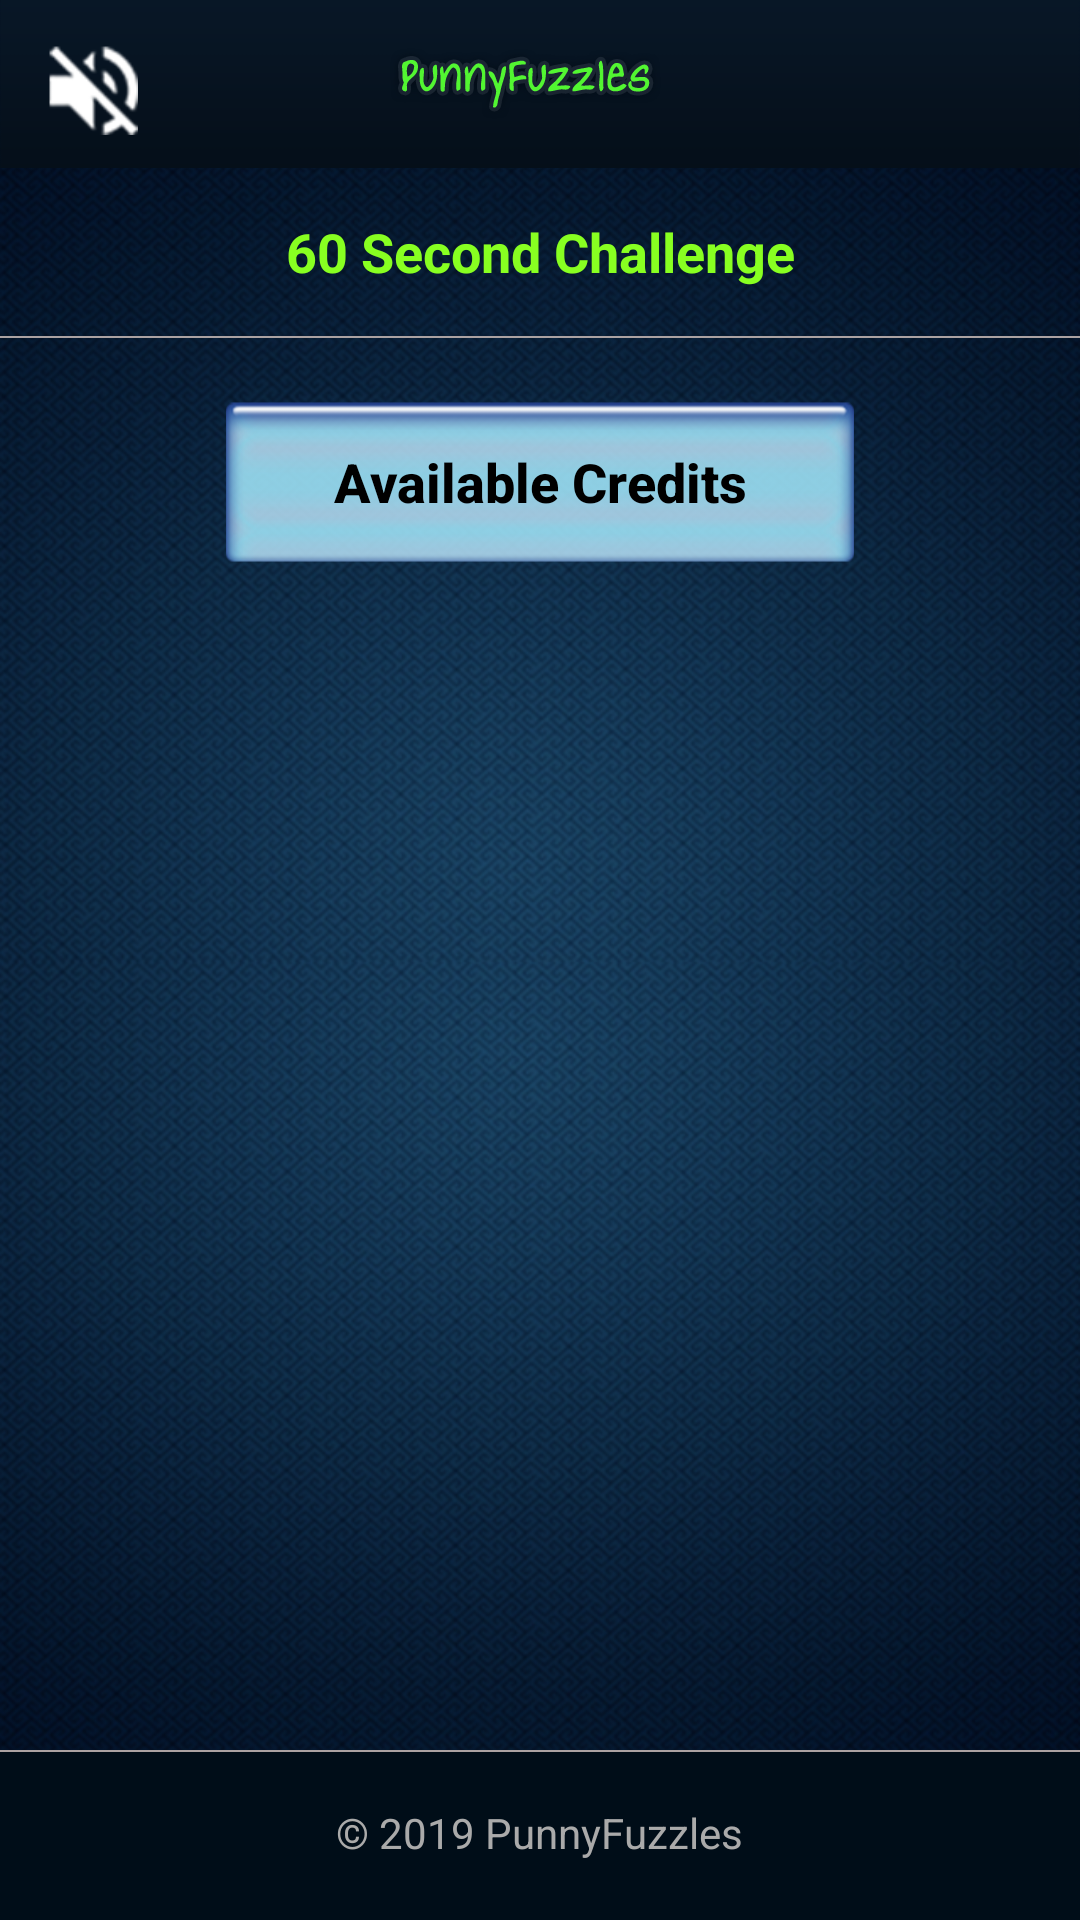

Where to tap for icons on this 1080 x 1920 app screen, as [x,y]:
volume off indicatornew: [93,90]
